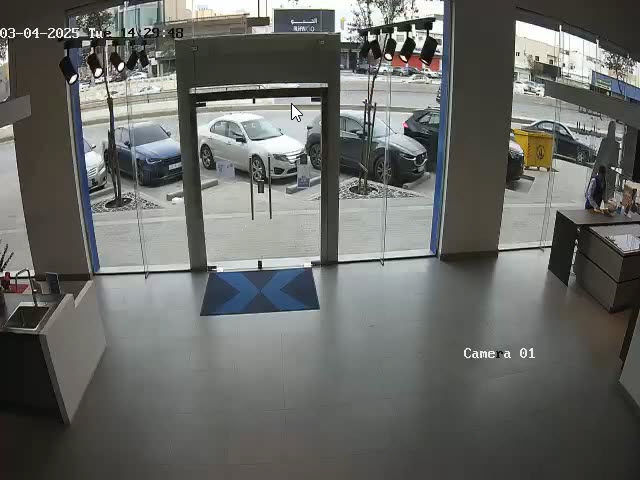employee: (584, 157, 611, 220)
